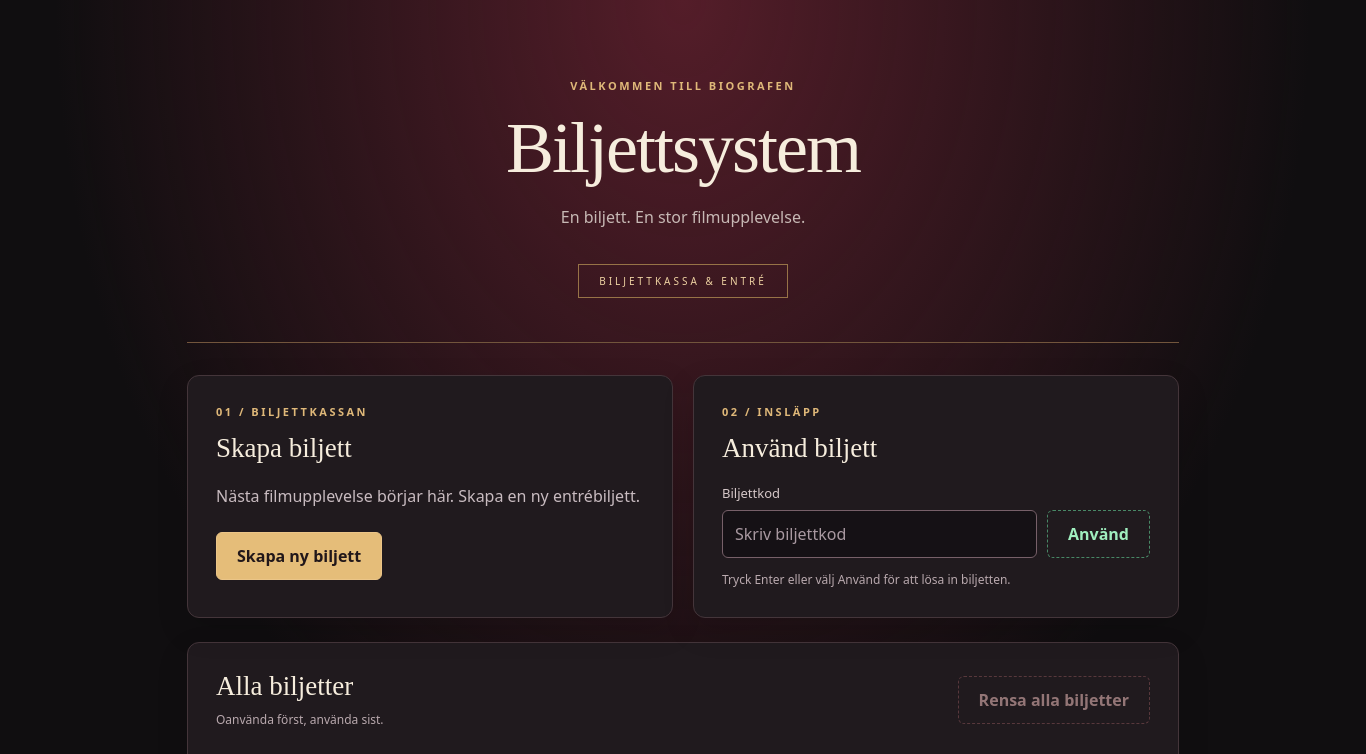
Test: Ticket system › should use a ticket with button
The width and height of the screenshot is (1366, 754).
Type "abc123" into the field with placeholder "Skriv biljettkod".
click(880, 534); type("abc123")  # box top-left (722, 510), bottom-right (1037, 558)
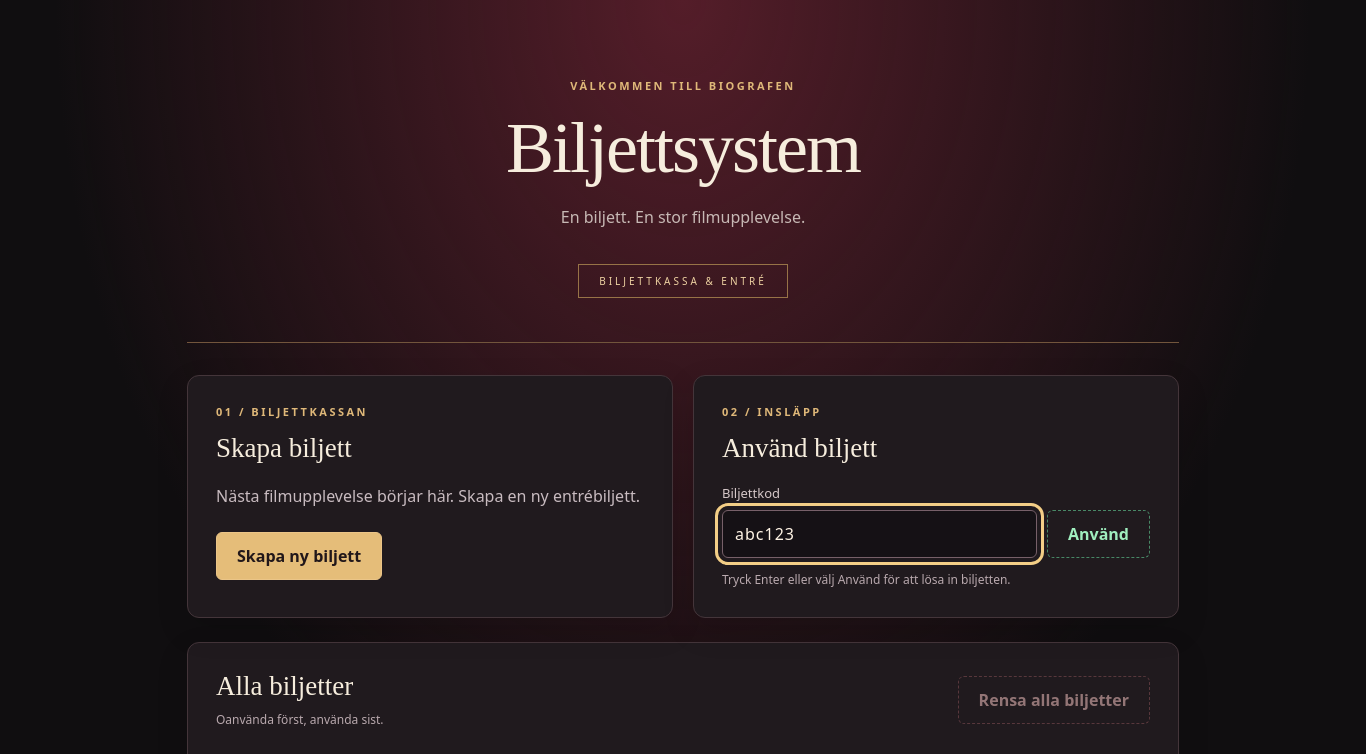
Click the button "Använd".
click(1098, 534)  # box top-left (1047, 510), bottom-right (1150, 558)
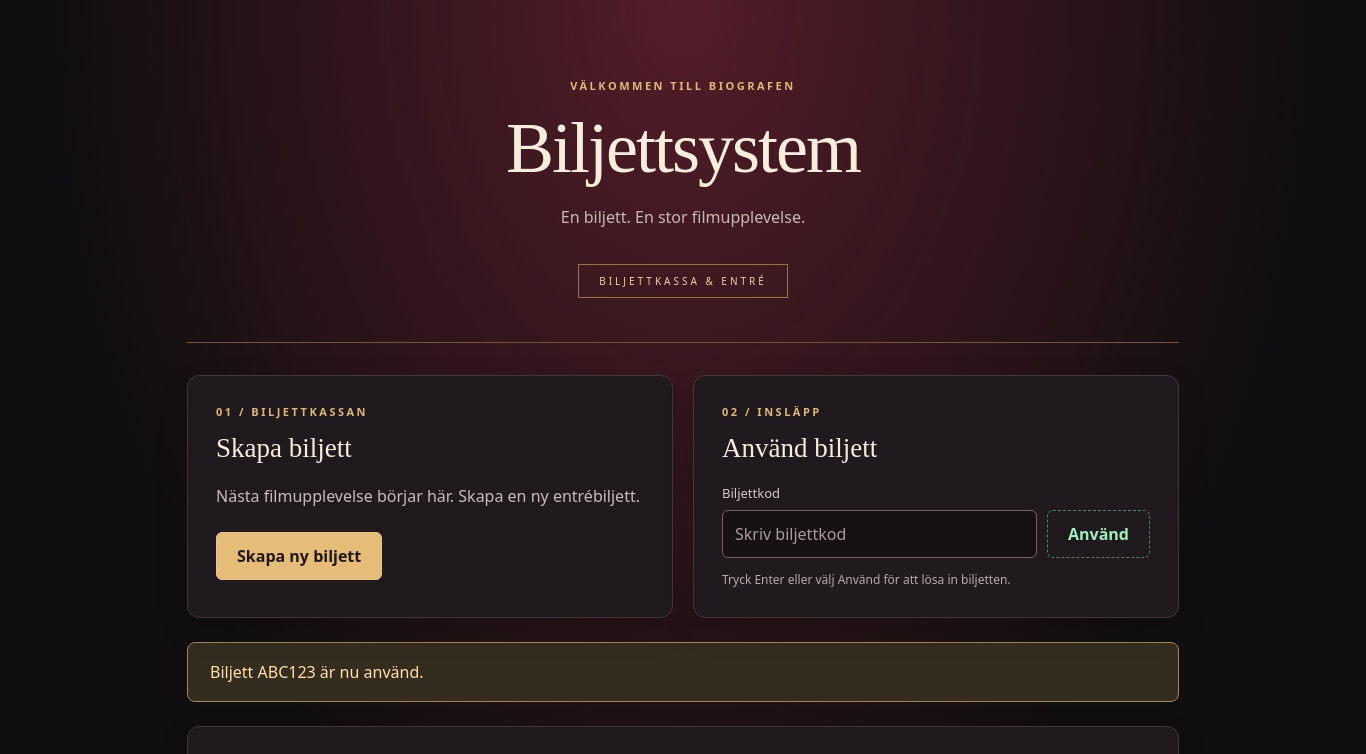
Now the text "Biljett ABC123 är nu använd." is shown, box top-left (187, 642), bottom-right (1179, 702)
